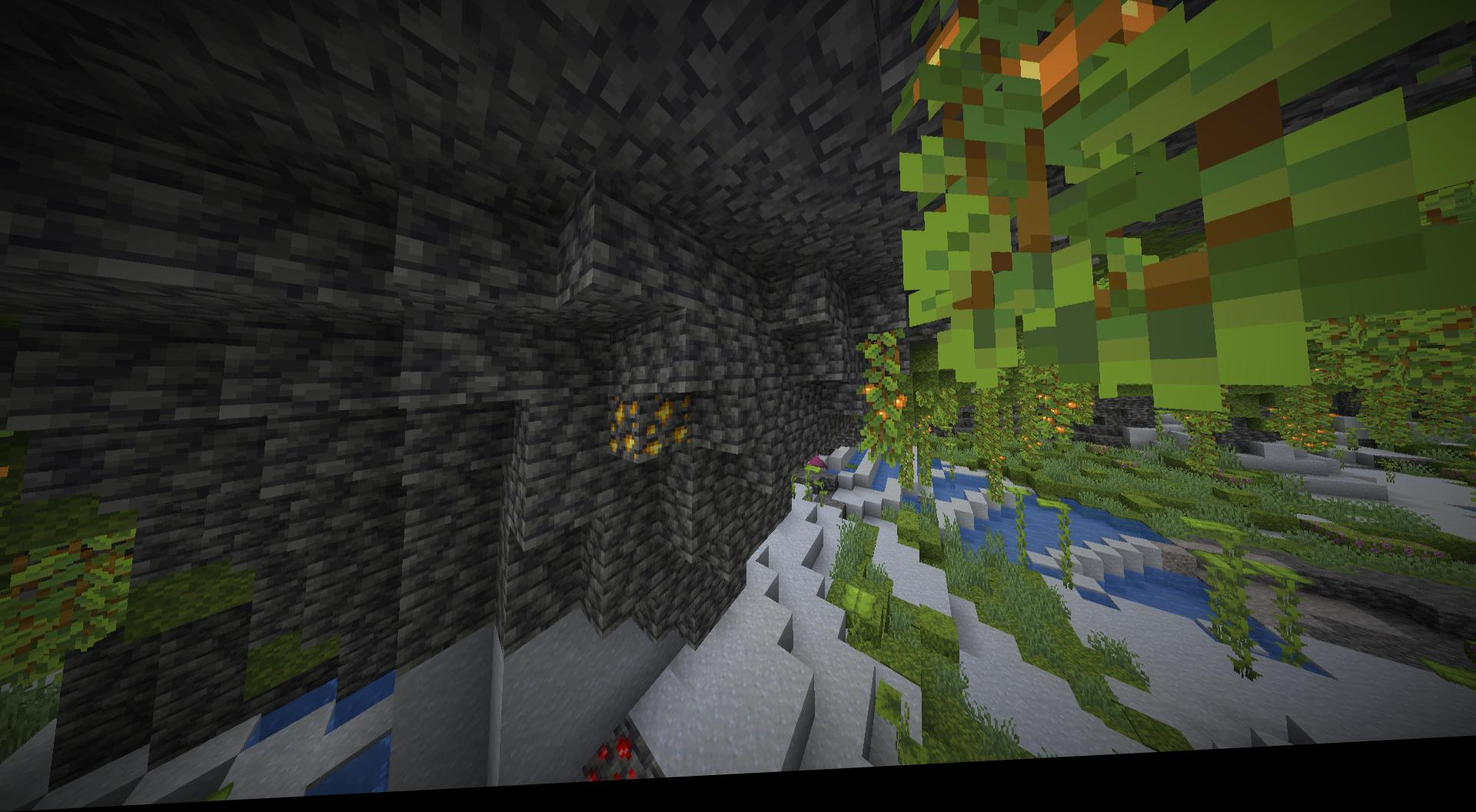gold ore: (646, 400, 686, 466), (606, 395, 641, 463)
redstone ore: (578, 739, 641, 788)
